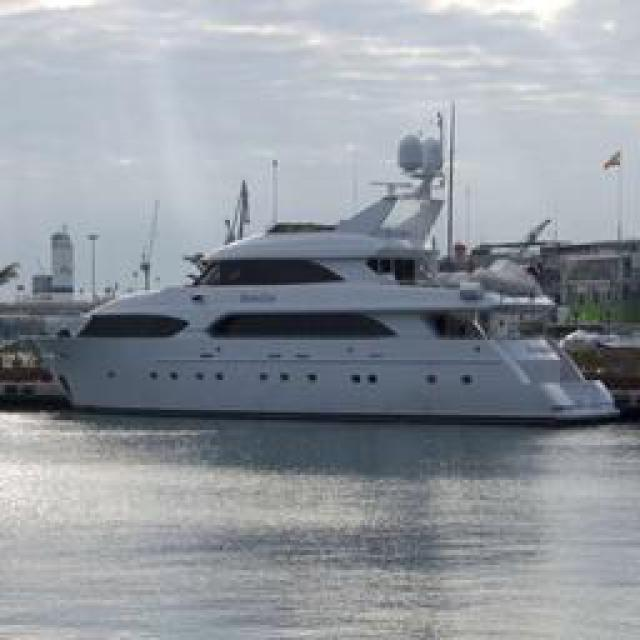Ship: (30, 117, 620, 425)
